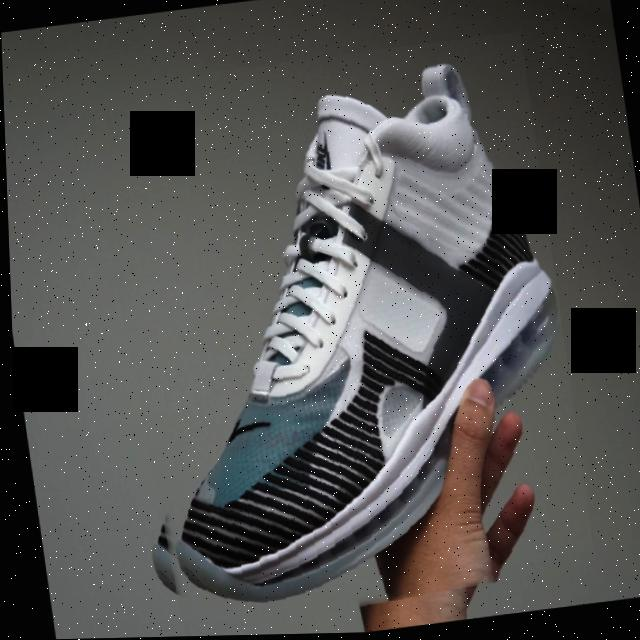shoe: (76, 33, 596, 639)
